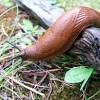slug: (18, 9, 100, 61)
